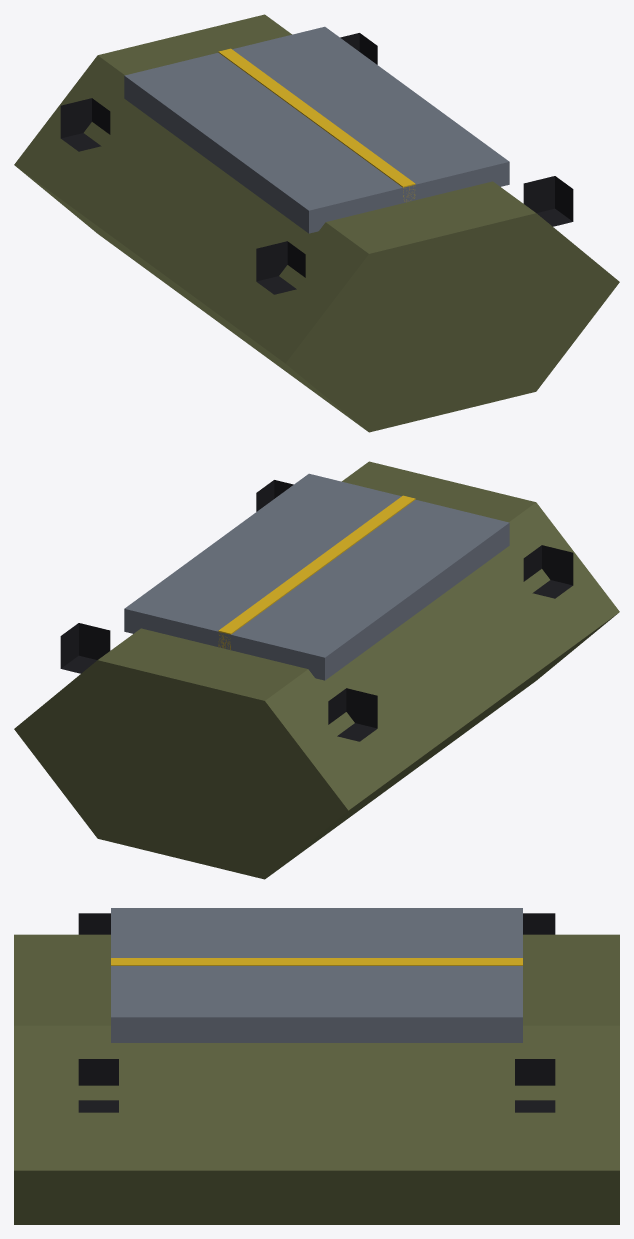
Rendered from ship_cargo_bay.obj.
3 views of the same model, one above another, from view 1: azimuth 30°, elevation 25°; view 2: azimuth 150°, elevation 25°; view 3: azimuth 270°, elevation 25° (orthographic). The views are drawn at different scales.
Parts seen in each view (by area): view 1: shell, door, locks, door_seam; view 2: shell, door, locks, door_seam; view 3: shell, door, locks, door_seam.
Boxes of the visible parts, x1,y1,x2,y2 form: shell: (14,14,619,432); door: (124,26,509,233); locks: (60,33,573,294); door_seam: (218,48,415,201); shell: (14,461,619,879); door: (124,473,509,680); locks: (60,480,573,741); door_seam: (218,495,415,649); shell: (14,934,619,1224); door: (111,908,522,1042); locks: (78,913,555,1112); door_seam: (111,958,522,965).
Size of the model in its own units: 2.13 by 1.19 by 3.
